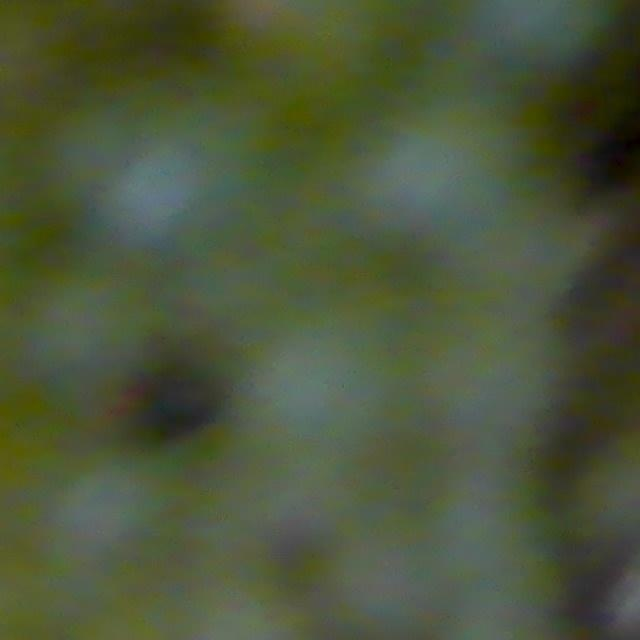SeaGrape: (341, 100, 517, 272), (245, 319, 399, 461), (80, 116, 237, 246)
